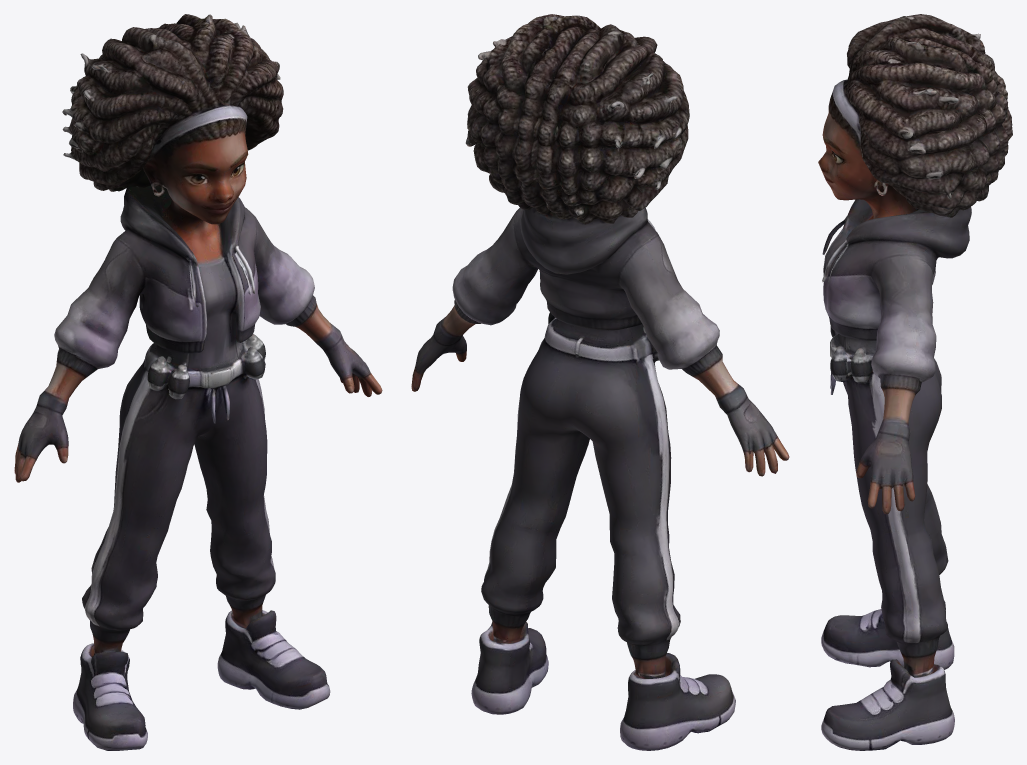
The model's file is gas.glb.
3 views of the same model, side by side, from view 1: azimuth 30°, elevation 25°; view 2: azimuth 150°, elevation 25°; view 3: azimuth 270°, elevation 25° (orthographic). The views are drawn at different scales.
Parts seen in each view (by area): view 1: tripo_node_9a9c7eb2-2b5c-4abc-8986-05b448cbe781; view 2: tripo_node_9a9c7eb2-2b5c-4abc-8986-05b448cbe781; view 3: tripo_node_9a9c7eb2-2b5c-4abc-8986-05b448cbe781.
Boxes of the visible parts, <box> form: tripo_node_9a9c7eb2-2b5c-4abc-8986-05b448cbe781: <box>14,14,382,750</box>; tripo_node_9a9c7eb2-2b5c-4abc-8986-05b448cbe781: <box>411,14,789,750</box>; tripo_node_9a9c7eb2-2b5c-4abc-8986-05b448cbe781: <box>818,14,1012,750</box>.
Bounding box in the file's own units: 0.546 × 0.9784 × 0.2568.
Materials: 1 (1 with a texture image).
